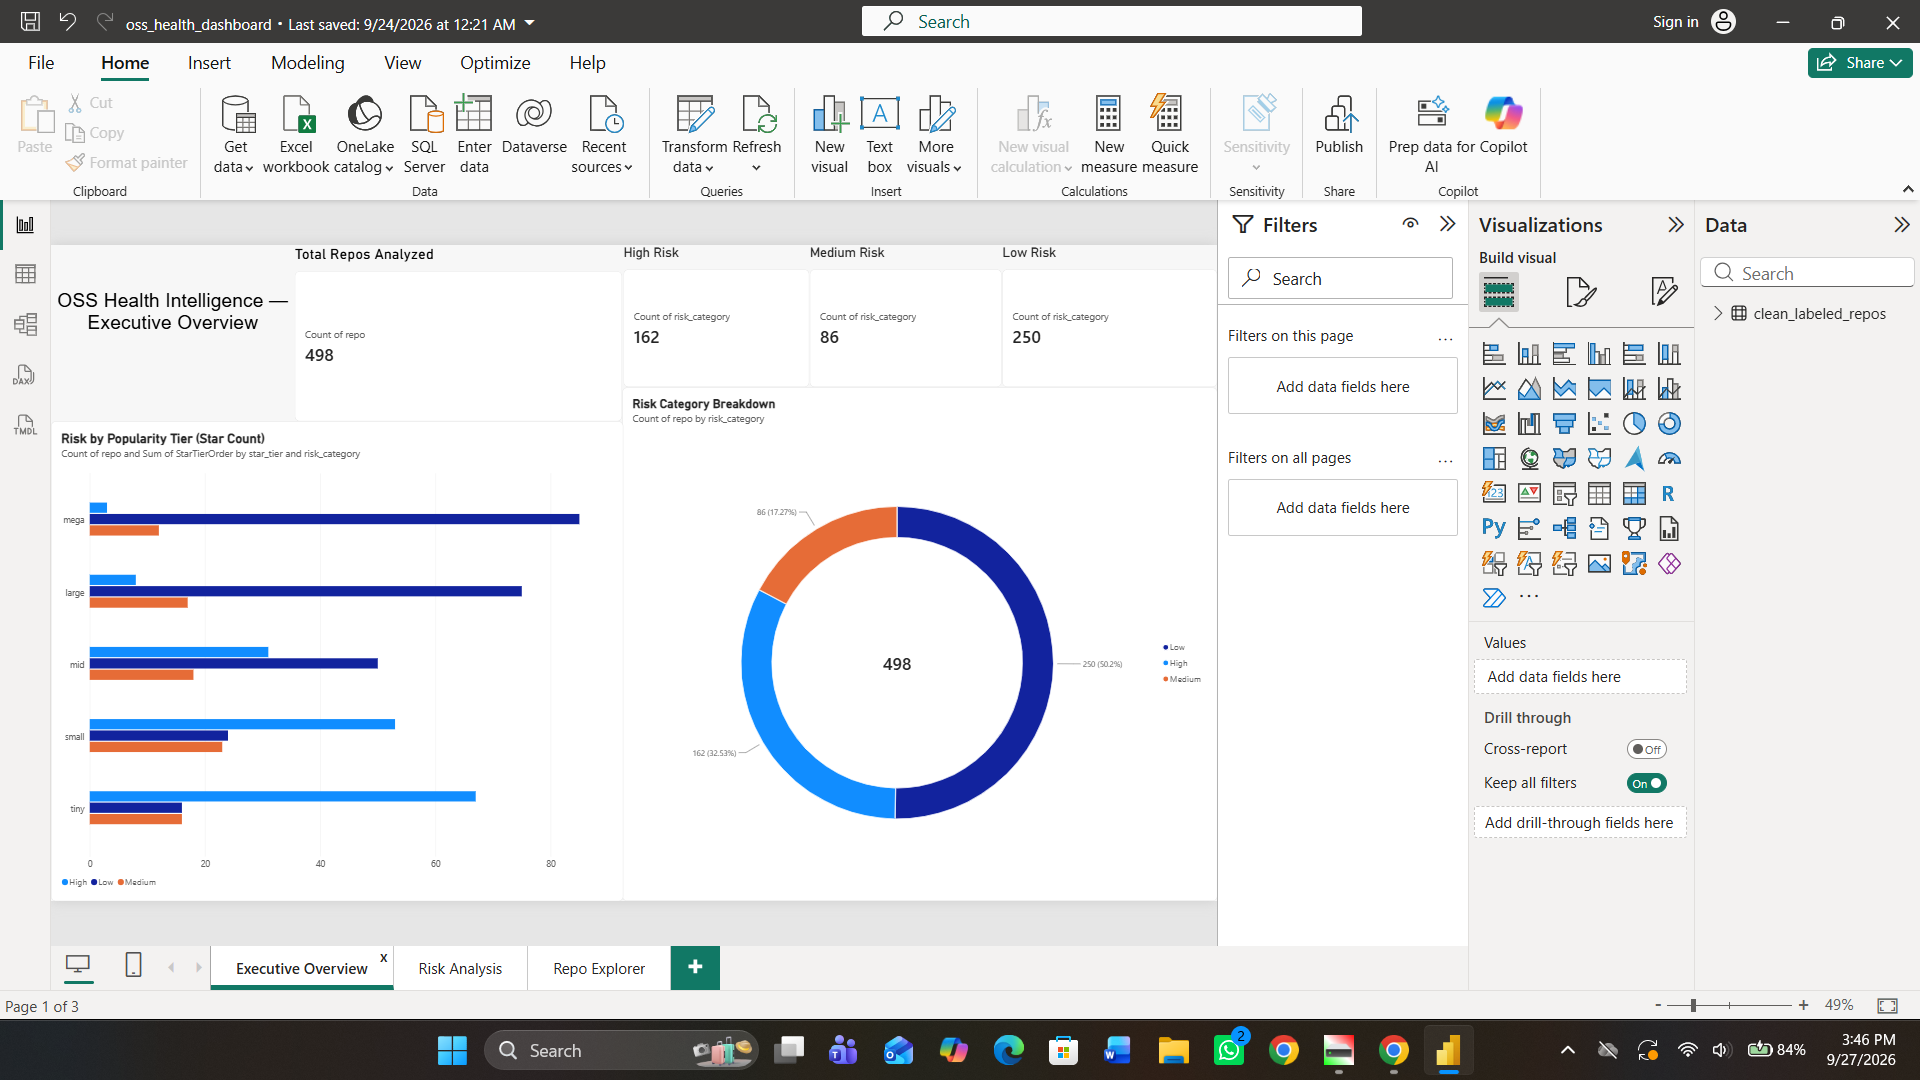

The page's visual inventory and layout, read from the dashboard file:
{"tool":"powerbi","page":{"name":"Executive Overview","canvas":[1920,1080],"ordinal":0},"visuals":[{"type":"cardVisual","title":"Total Repos Analyzed","fields":{"Data":["CountNonNull(clean_labeled_repos.repo)"]},"box":[401.4,0,539.3,290.2],"z":0},{"type":"cardVisual","title":"High Risk","fields":{"Data":["CountNonNull(clean_labeled_repos.risk_category)"]},"box":[942.7,0,306.7,234.6],"z":1000},{"type":"cardVisual","title":"Medium Risk","fields":{"Data":["CountNonNull(clean_labeled_repos.risk_category)"]},"box":[1249.4,0,317,234.6],"z":2000},{"type":"cardVisual","title":"Low Risk","fields":{"Data":["CountNonNull(clean_labeled_repos.risk_category)"]},"box":[1566.4,0,354,234.6],"z":3000},{"type":"donutChart","title":"Risk Category Breakdown","fields":{"Category":["clean_labeled_repos.risk_category"],"Y":["CountNonNull(clean_labeled_repos.repo)"]},"box":[940.7,234.6,979.8,846],"z":4000},{"type":"clusteredBarChart","title":"Risk by Popularity Tier (Star Count)","fields":{"Category":["clean_labeled_repos.star_tier"],"Series":["clean_labeled_repos.risk_category"],"Y":["CountNonNull(clean_labeled_repos.repo)"]},"box":[0,290.2,942.7,790.4],"z":5000},{"type":"textbox","box":[0,0,401.4,290.2],"z":6000}]}

Visuals, with their boxes on the page's 1920x1080 design canvas (x1, y1, x2, y2). These are canvas units, not pixel positions in the 1920x1080 screenshot, which may show the page scaled, cropped or inside an application window:
"Total Repos Analyzed" cardVisual: {"x1": 401, "y1": 0, "x2": 941, "y2": 290}
"High Risk" cardVisual: {"x1": 943, "y1": 0, "x2": 1249, "y2": 235}
"Medium Risk" cardVisual: {"x1": 1249, "y1": 0, "x2": 1566, "y2": 235}
"Low Risk" cardVisual: {"x1": 1566, "y1": 0, "x2": 1920, "y2": 235}
"Risk Category Breakdown" donutChart: {"x1": 941, "y1": 235, "x2": 1920, "y2": 1081}
"Risk by Popularity Tier (Star Count)" clusteredBarChart: {"x1": 0, "y1": 290, "x2": 943, "y2": 1081}
textbox: {"x1": 0, "y1": 0, "x2": 401, "y2": 290}
